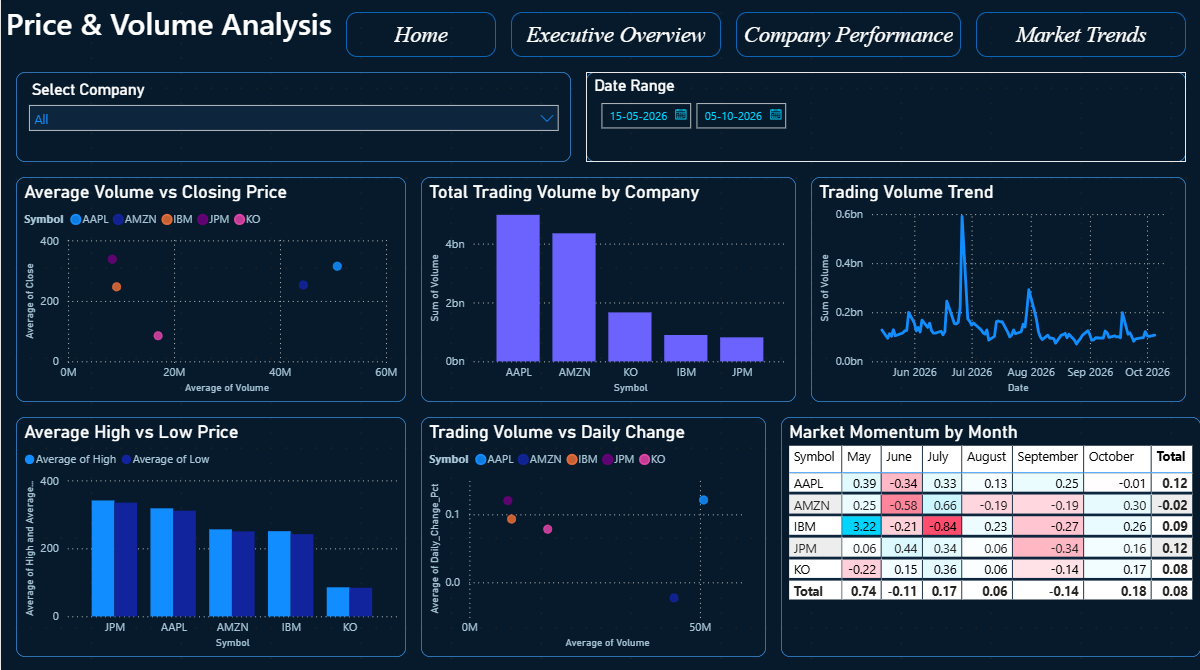

The page's visual inventory and layout, read from the dashboard file:
{"tool":"powerbi","page":{"name":"Price & Volume Analysis","canvas":[1280,720],"ordinal":4},"visuals":[{"type":"textbox","box":[0,0,368,80],"z":0},{"type":"shape","box":[368,16,160,48],"z":1000},{"type":"shape","box":[544,16,224,48],"z":2000},{"type":"shape","box":[784,16,240,48],"z":3000},{"type":"shape","box":[1040,16,224,48],"z":4000},{"type":"slicer","fields":{"Values":["stock_prices.Symbol"]},"box":[16,80,592,96],"z":5000},{"type":"scatterChart","title":"Average Volume vs Closing Price","fields":{"X":["Avg(stock_prices.Volume)"],"Y":["Avg(stock_prices.Close)"],"Series":["stock_prices.Symbol"]},"box":[16,192,416,240],"z":6000},{"type":"clusteredColumnChart","title":"Total Trading Volume by Company","fields":{"Category":["stock_prices.Symbol"],"Y":["Sum(stock_prices.Volume)"]},"box":[448,192,400,240],"z":7000},{"type":"lineChart","title":"Trading Volume Trend","fields":{"Category":["stock_prices.Date"],"Y":["Sum(stock_prices.Volume)"]},"box":[864,192,400,240],"z":8000},{"type":"clusteredColumnChart","title":"Average High vs Low Price","fields":{"Category":["stock_prices.Symbol"],"Y":["Avg(stock_prices.High)","Avg(stock_prices.Low)"]},"box":[16,448,416,256],"z":9000},{"type":"scatterChart","title":"Trading Volume vs Daily Change","fields":{"X":["Avg(stock_prices.Volume)"],"Y":["Avg(stock_prices.Daily_Change_Pct)"],"Series":["stock_prices.Symbol"]},"box":[448,448,368,256],"z":10000},{"type":"slicer","title":"Date Range","fields":{"Values":["dim_date.Date"]},"box":[624,80,640,96],"z":11000},{"type":"pivotTable","title":"Market Momentum by Month","fields":{"Rows":["stock_prices.Symbol"],"Columns":["dim_date.Month_Name"],"Values":["Avg(stock_prices.Daily_Change_Pct)"]},"box":[832,448,448,256],"z":12000}]}

Visuals, with their boxes in screenshot pixels (x1, y1, x2, y2), scaled from the page's 1280x720 canvas onto the 1200x670 screenshot:
textbox: (x1=0, y1=0, x2=345, y2=74)
shape: (x1=345, y1=15, x2=495, y2=60)
shape: (x1=510, y1=15, x2=720, y2=60)
shape: (x1=735, y1=15, x2=960, y2=60)
shape: (x1=975, y1=15, x2=1185, y2=60)
slicer - stock_prices.Symbol: (x1=15, y1=74, x2=570, y2=164)
"Average Volume vs Closing Price" scatterChart: (x1=15, y1=179, x2=405, y2=402)
"Total Trading Volume by Company" clusteredColumnChart: (x1=420, y1=179, x2=795, y2=402)
"Trading Volume Trend" lineChart: (x1=810, y1=179, x2=1185, y2=402)
"Average High vs Low Price" clusteredColumnChart: (x1=15, y1=417, x2=405, y2=655)
"Trading Volume vs Daily Change" scatterChart: (x1=420, y1=417, x2=765, y2=655)
"Date Range" slicer: (x1=585, y1=74, x2=1185, y2=164)
"Market Momentum by Month" pivotTable: (x1=780, y1=417, x2=1199, y2=655)
